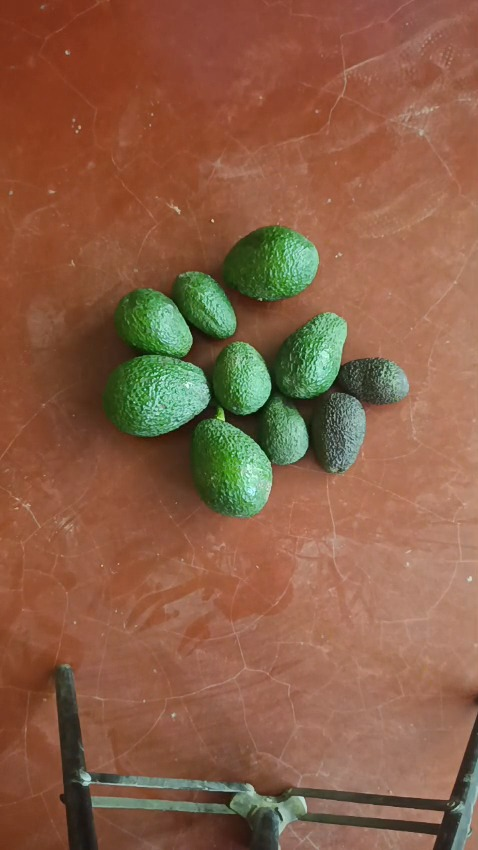Primera: (102, 355, 211, 437), (190, 409, 272, 515)
Segunda: (223, 226, 319, 302), (272, 313, 348, 400)
Tercera: (113, 287, 194, 359), (309, 391, 366, 473), (170, 271, 237, 340), (212, 341, 273, 416), (257, 391, 307, 465), (337, 357, 409, 406)
